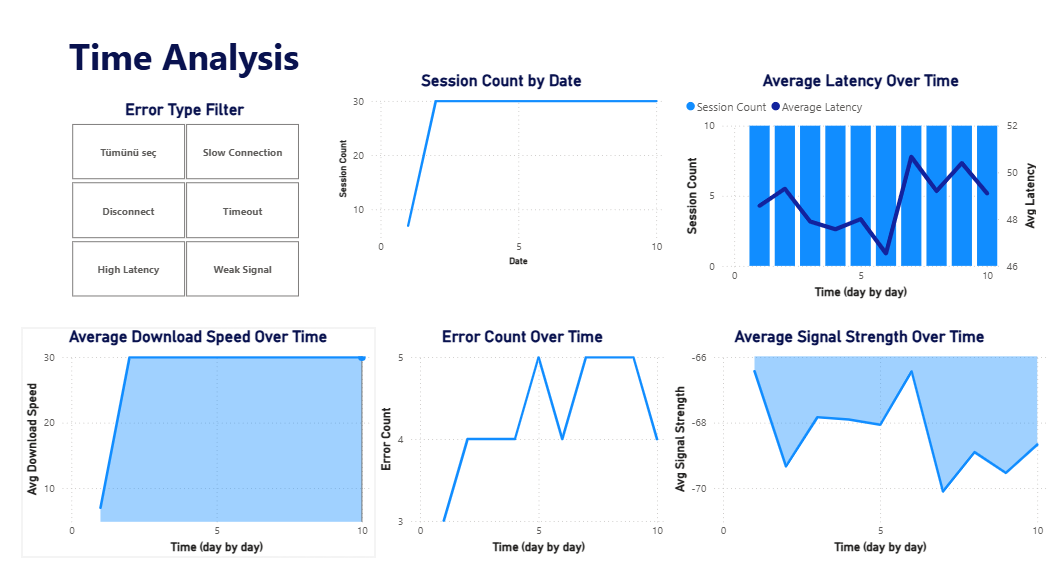

What the dashboard file says about the page in this screenshot:
{"tool":"powerbi","page":{"name":"Time Analysis","canvas":[1280,720],"ordinal":4},"visuals":[{"type":"textbox","box":[32.8,44.8,388.1,103],"z":0},{"type":"lineChart","title":"Error Count Over Time","fields":{"Category":["Errors.error_time.Varyasyon.Tarih Hiyerarşisi.Gün"],"Y":["CountNonNull(Errors.error_id)"]},"box":[455,403.3,351.7,275],"z":1000},{"type":"areaChart","title":"Average Download Speed Over Time","fields":{"Category":["Network_Logs.timestamp.Varyasyon.Tarih Hiyerarşisi.Gün"],"Y":["CountNonNull(Network_Logs.download_speed)"]},"box":[33.3,403.3,421.7,275],"z":2000},{"type":"lineStackedColumnComboChart","title":"Average Latency Over Time","fields":{"Category":["Sessions.start_time.Varyasyon.Tarih Hiyerarşisi.Gün"],"Y":["CountNonNull(Sessions.router_id)"],"Y2":["Avg(Network_Logs.latency)"]},"box":[820.9,97,428.4,276.1],"z":3000},{"type":"areaChart","title":"Average Signal Strength Over Time","fields":{"Category":["Network_Logs.timestamp.Varyasyon.Tarih Hiyerarşisi.Gün"],"Y":["Avg(Network_Logs.signal_strength)"]},"box":[806.7,403.3,455,275],"z":4000},{"type":"lineChart","title":"Session Count by Date","fields":{"Category":["Sessions.start_time.Varyasyon.Tarih Hiyerarşisi.Gün"],"Y":["CountNonNull(Network_Logs.session_id)"]},"box":[406,97,400,237.3],"z":5000},{"type":"slicer","title":"Error Type Filter","fields":{"Values":["Errors.error_type"]},"box":[67.2,131.3,320.9,241.8],"z":6000}]}

Visuals, with their boxes in screenshot pixels (x1, y1, x2, y2), scaled from the page's 1280x720 canvas onto the 1055x582 screenshot:
textbox: 27/36/347/119
"Error Count Over Time" lineChart: 375/326/665/548
"Average Download Speed Over Time" areaChart: 27/326/375/548
"Average Latency Over Time" lineStackedColumnComboChart: 677/78/1030/302
"Average Signal Strength Over Time" areaChart: 665/326/1040/548
"Session Count by Date" lineChart: 335/78/664/270
"Error Type Filter" slicer: 55/106/320/302
